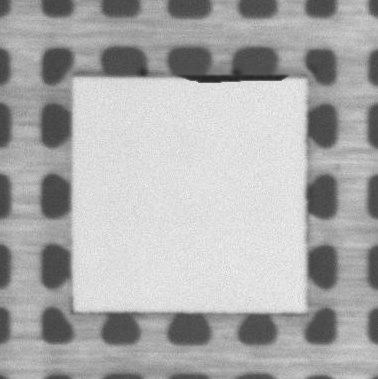DIE_BROKEN: (179, 70, 288, 86)
